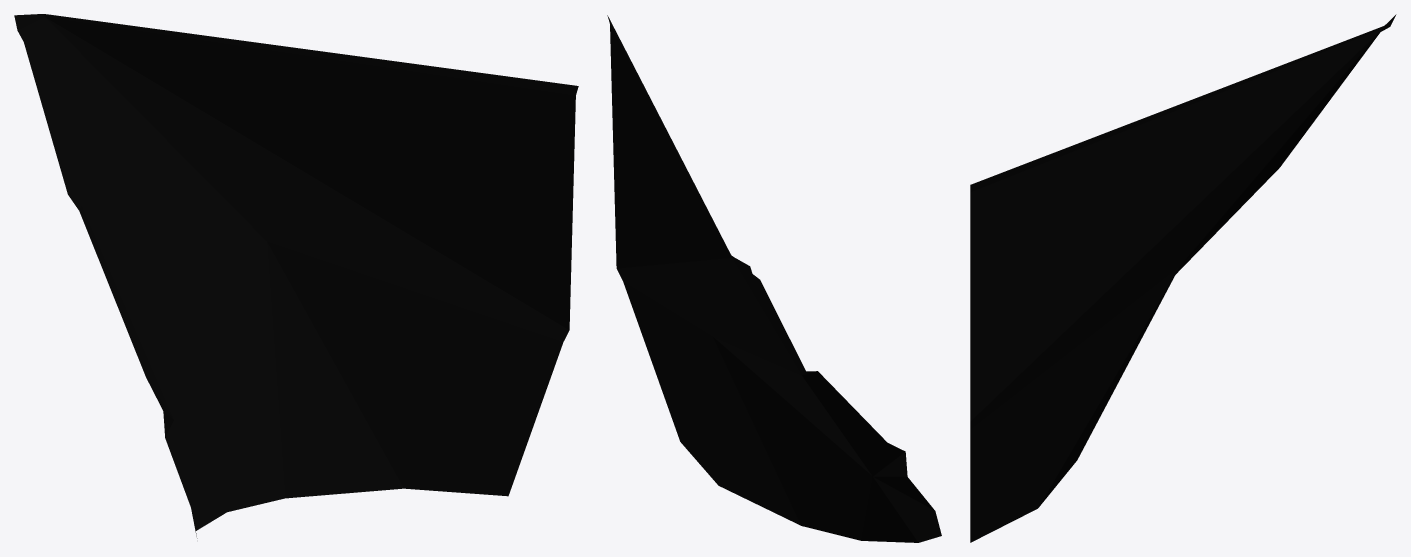
3 renders of one model, left to right at view 1: azimuth 30°, elevation 25°; view 2: azimuth 150°, elevation 25°; view 3: azimuth 270°, elevation 25°, orthographic. The views are drawn at different scales.
Size of the model in its own units: 2.76 by 2.95 by 2.9.
3 materials, 3 textured.
